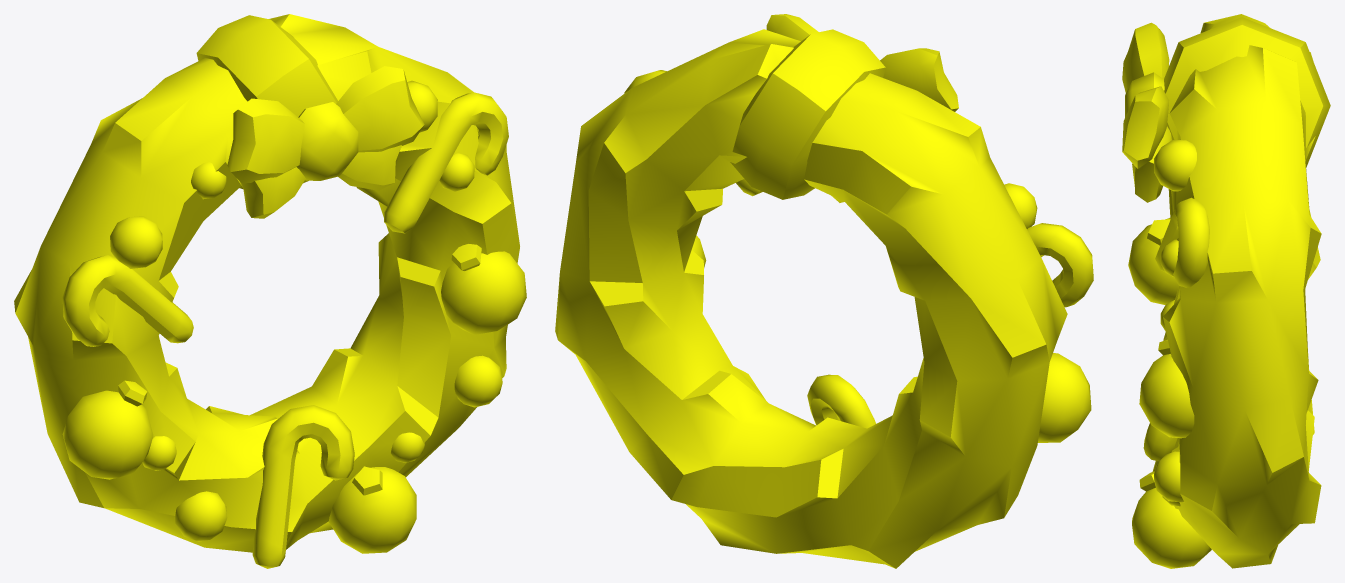
Rendered from kaykit-wreath.glb.
The picture shows the model from 3 angles, left to right: view 1: azimuth 30°, elevation 25°; view 2: azimuth 150°, elevation 25°; view 3: azimuth 270°, elevation 25°; orthographic projection. The views are drawn at different scales.
Visible parts, largest first — view 1: wreath; view 2: wreath; view 3: wreath.
Part boxes in pixels (left/top/right/bottom): wreath: left=14, top=14, right=526, bottom=568; wreath: left=555, top=14, right=1093, bottom=568; wreath: left=1122, top=14, right=1330, bottom=568.
Size of the model in its own units: 1.31 by 1.34 by 0.4997.
